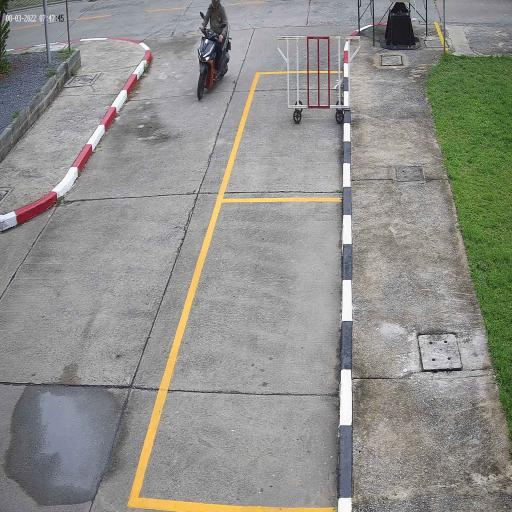motorcycle: (196, 36, 230, 102)
